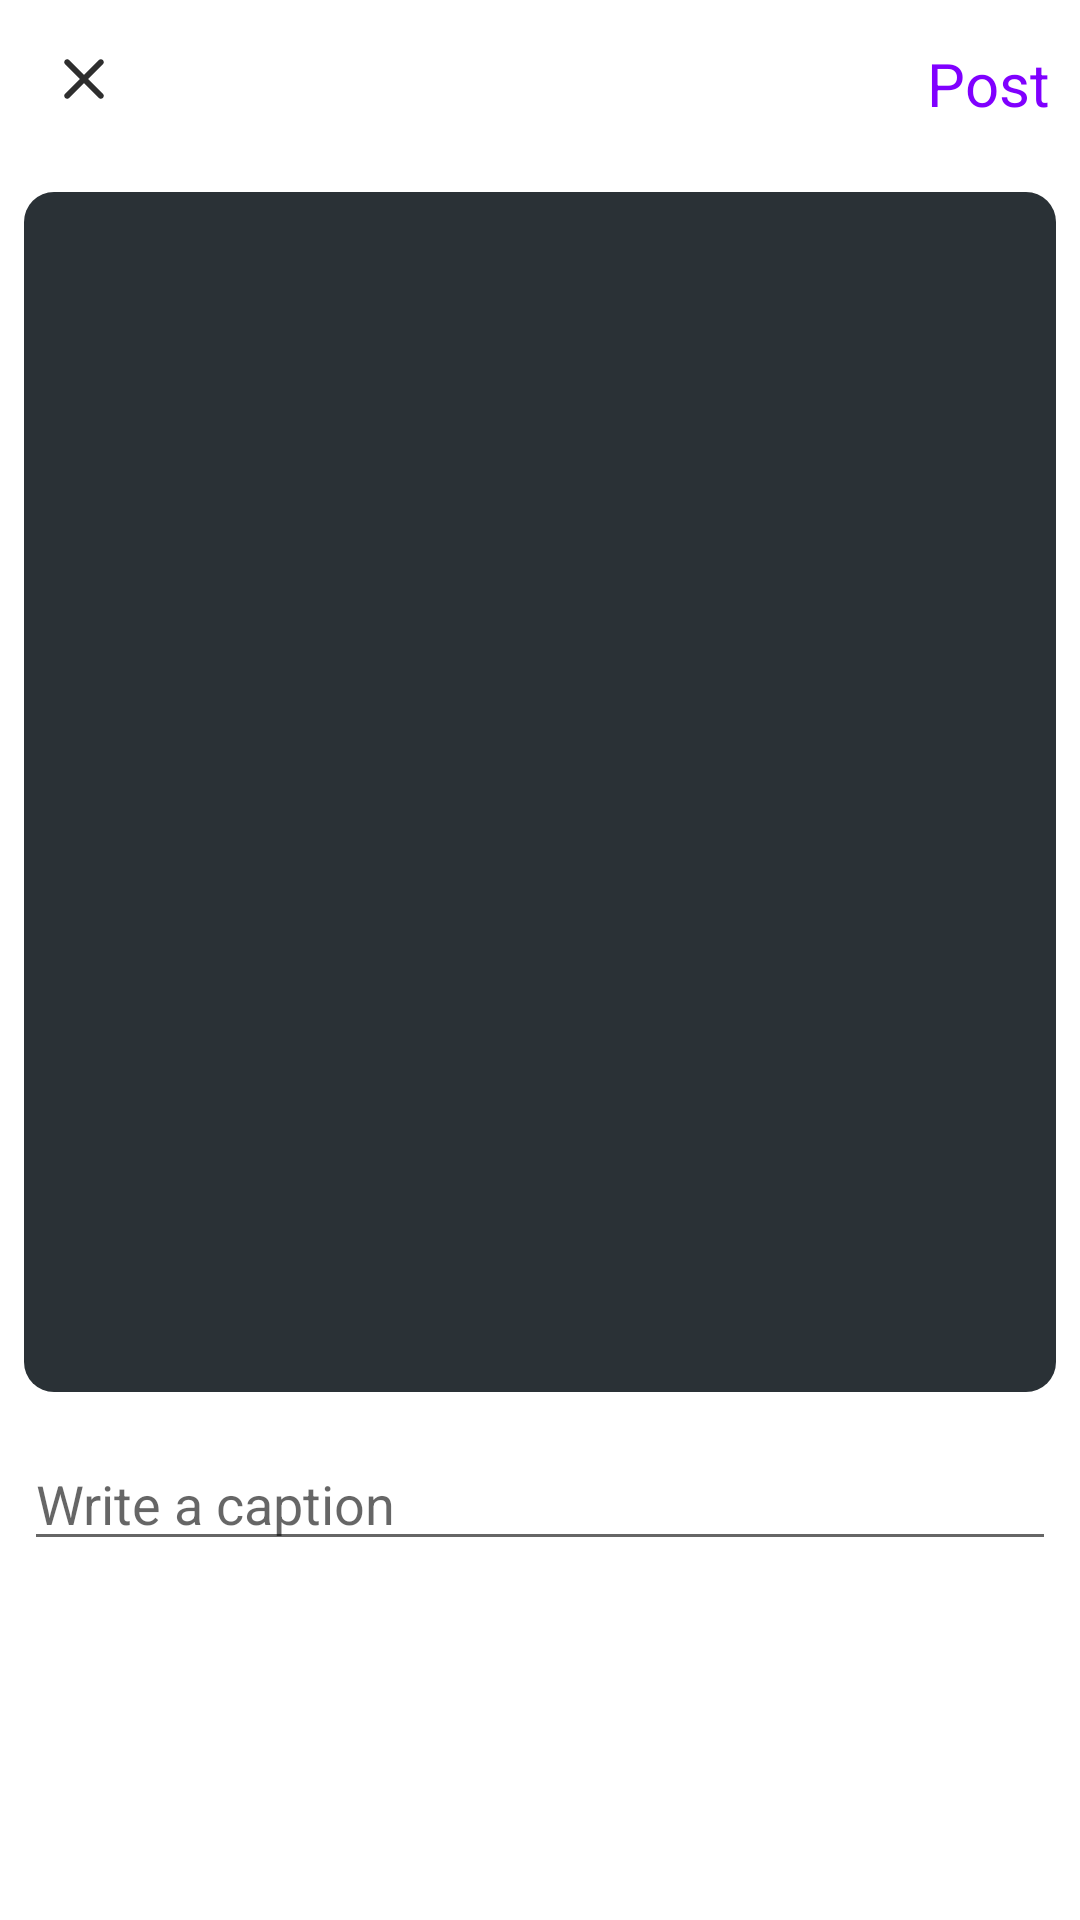

Where to tap for icons on this 1080x1920 app screen, as (x=x, y=y):
iconclose: (x=84, y=79)
